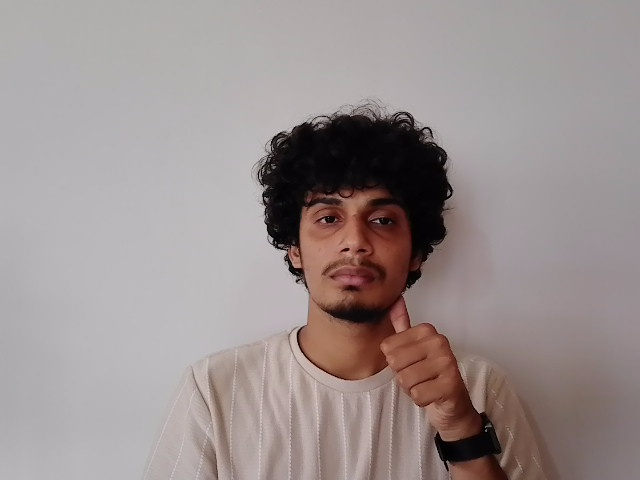not: (307, 286, 471, 408)
